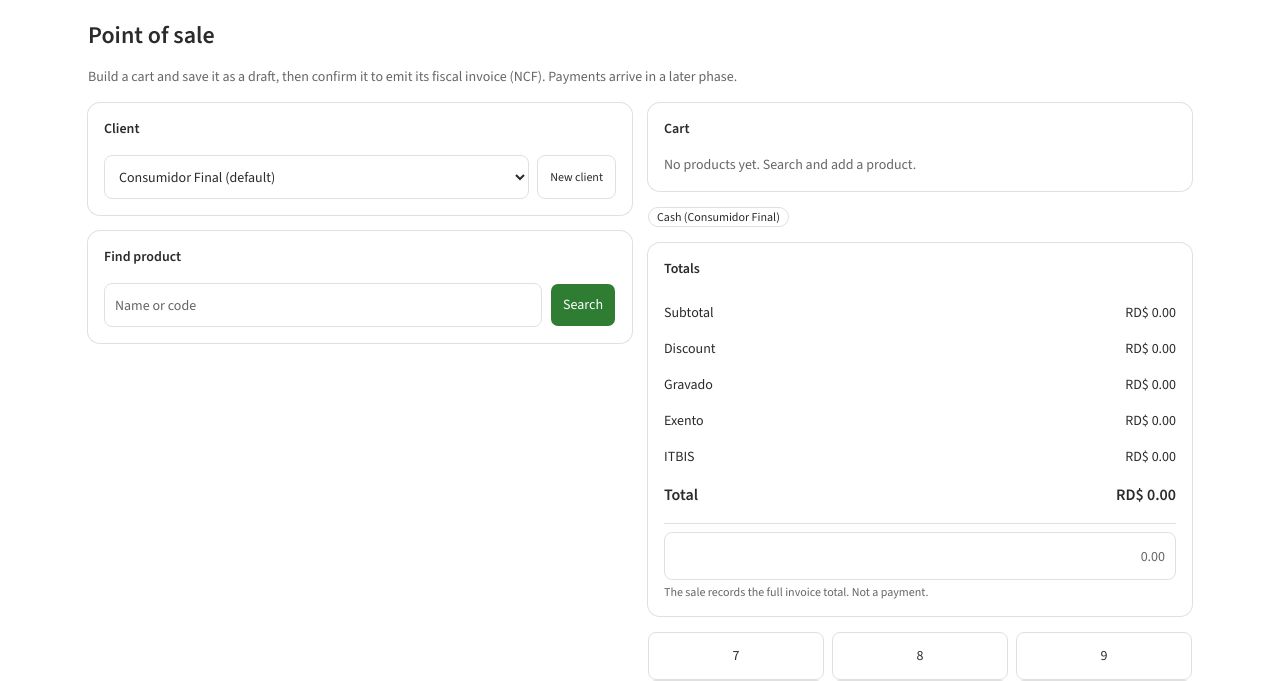
Test case: PosScreen (R-V14) › renders the stock-warning banner from the save payload warnings
The width and height of the screenshot is (1280, 681).
Type "arroz" into the field named "Search products" at (323, 305), box [104, 283, 542, 327]
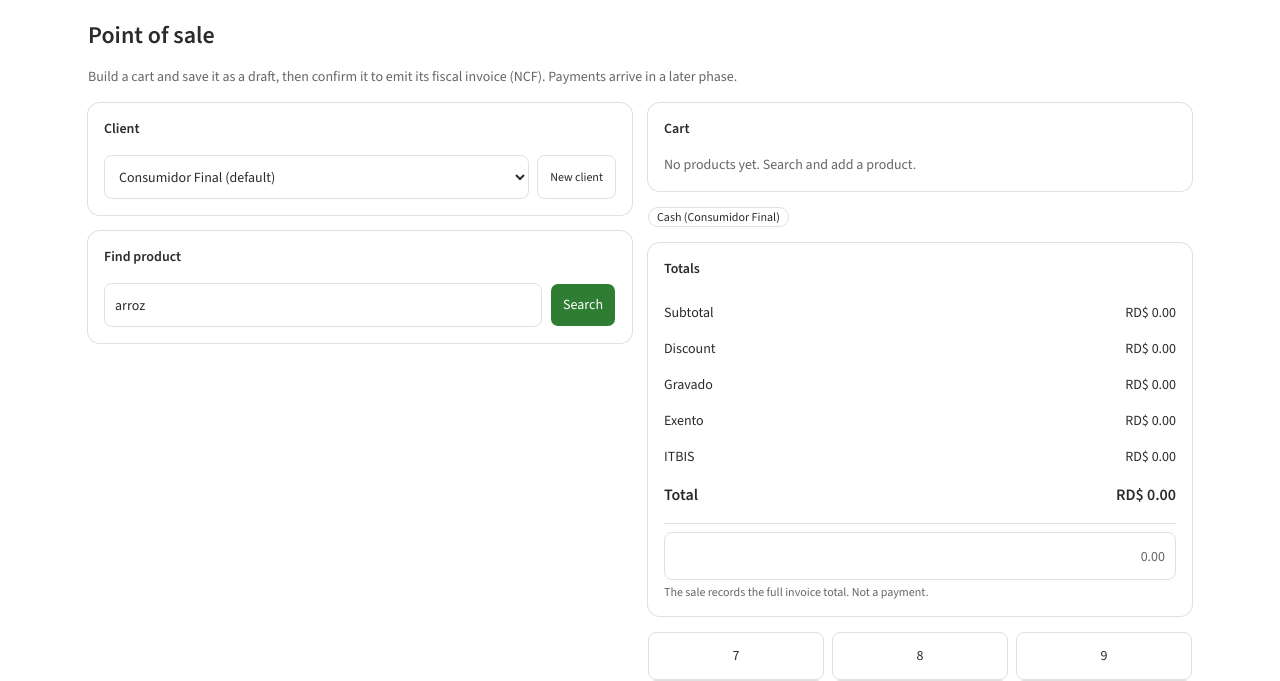
Click the button "Search" at (583, 305), box [550, 283, 616, 327]
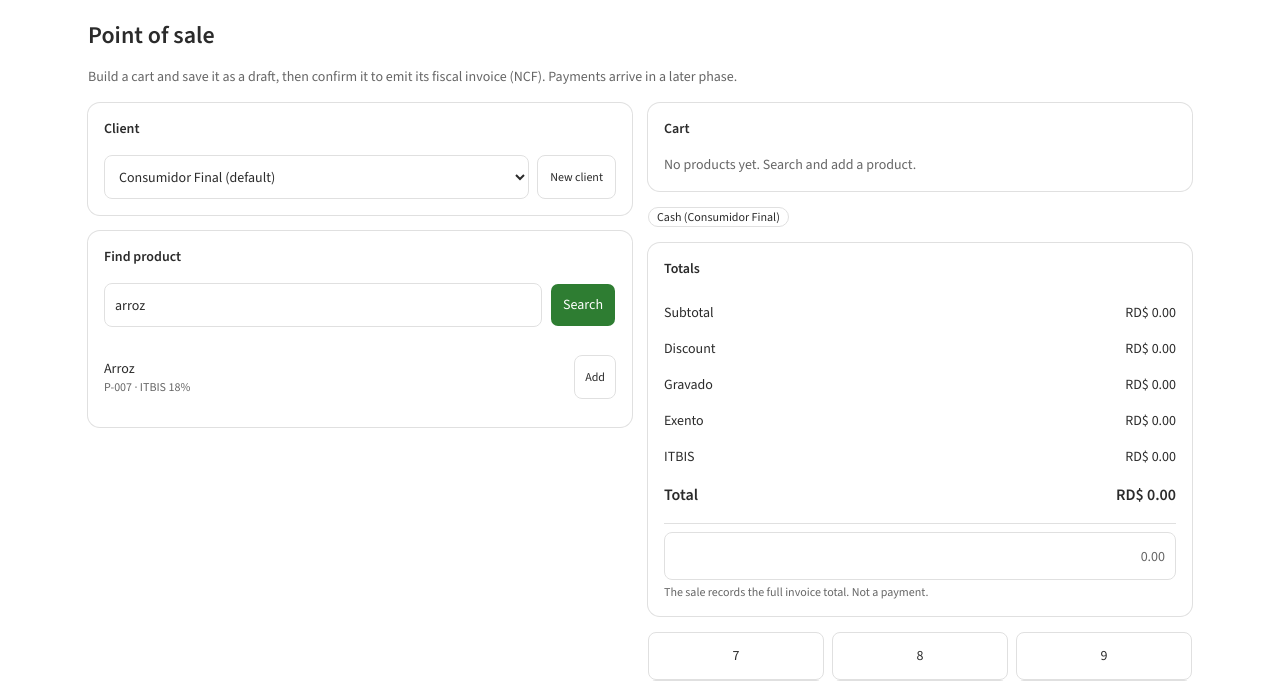
Click the button "Add" at (595, 377), box [574, 355, 616, 399]
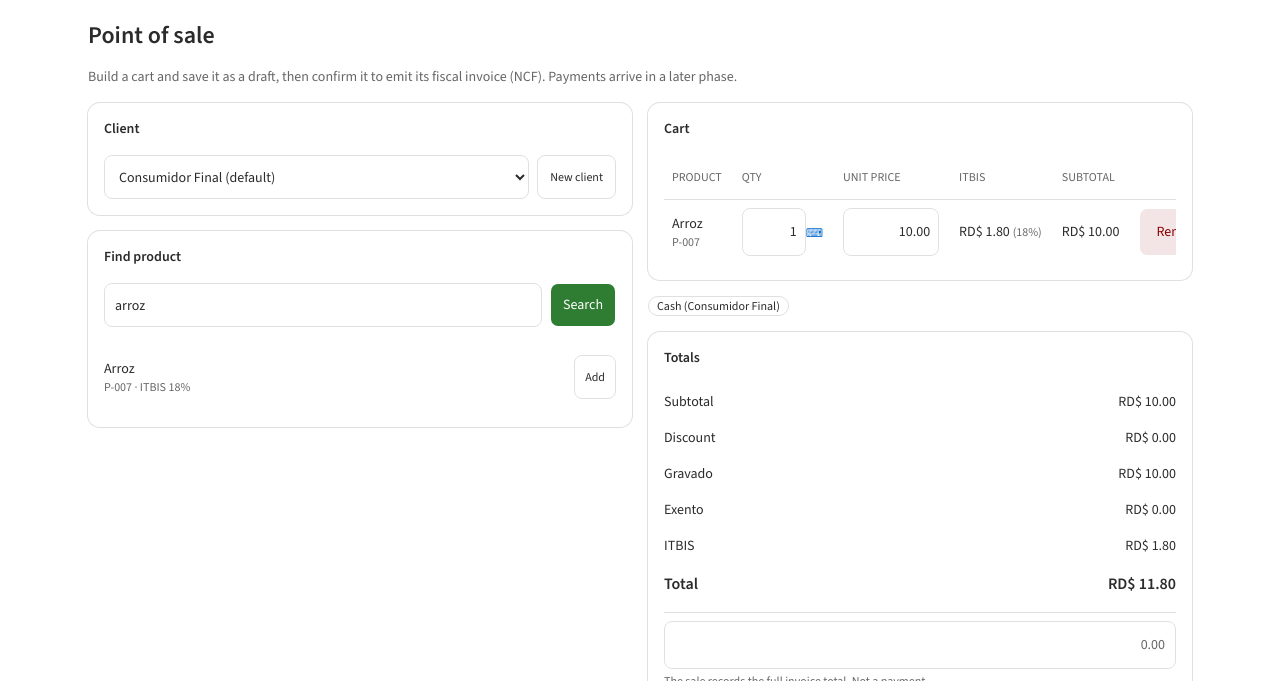
Replace the text in the field named "Quantity for Arroz" with "2" at (774, 232), box [742, 208, 806, 256]
(page scrolled)
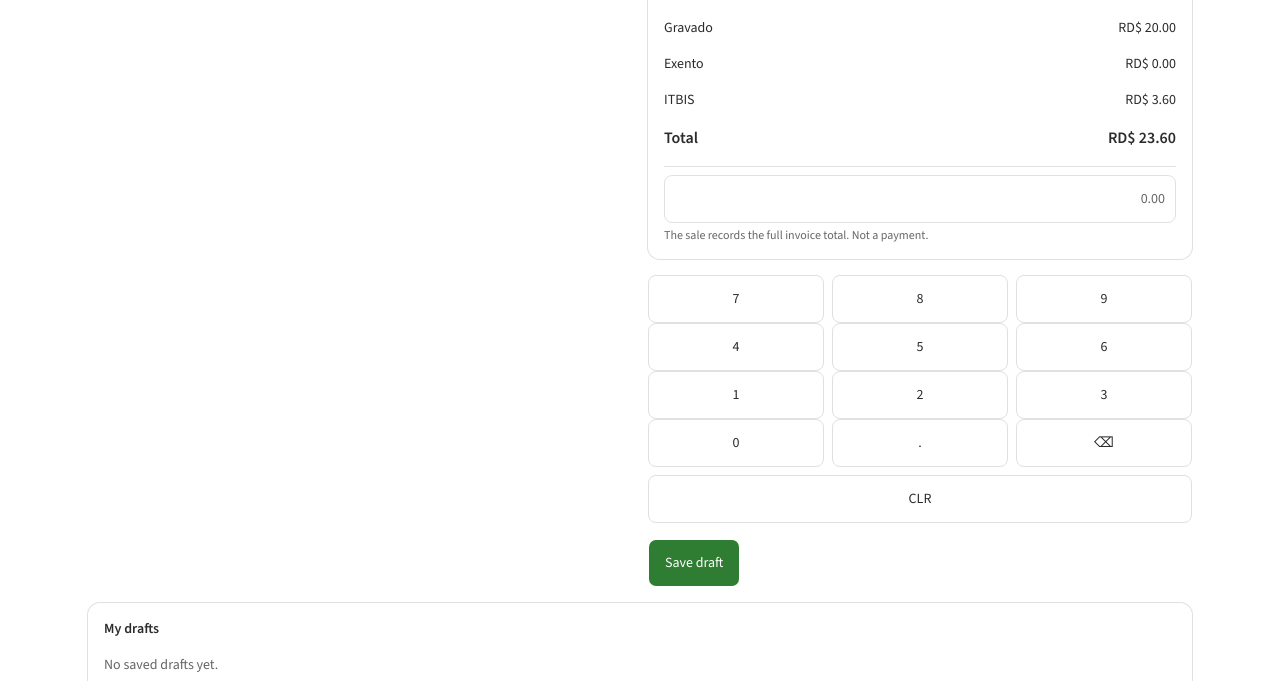
Click the button "Save draft" at (694, 562), box [648, 538, 740, 586]
(page scrolled)
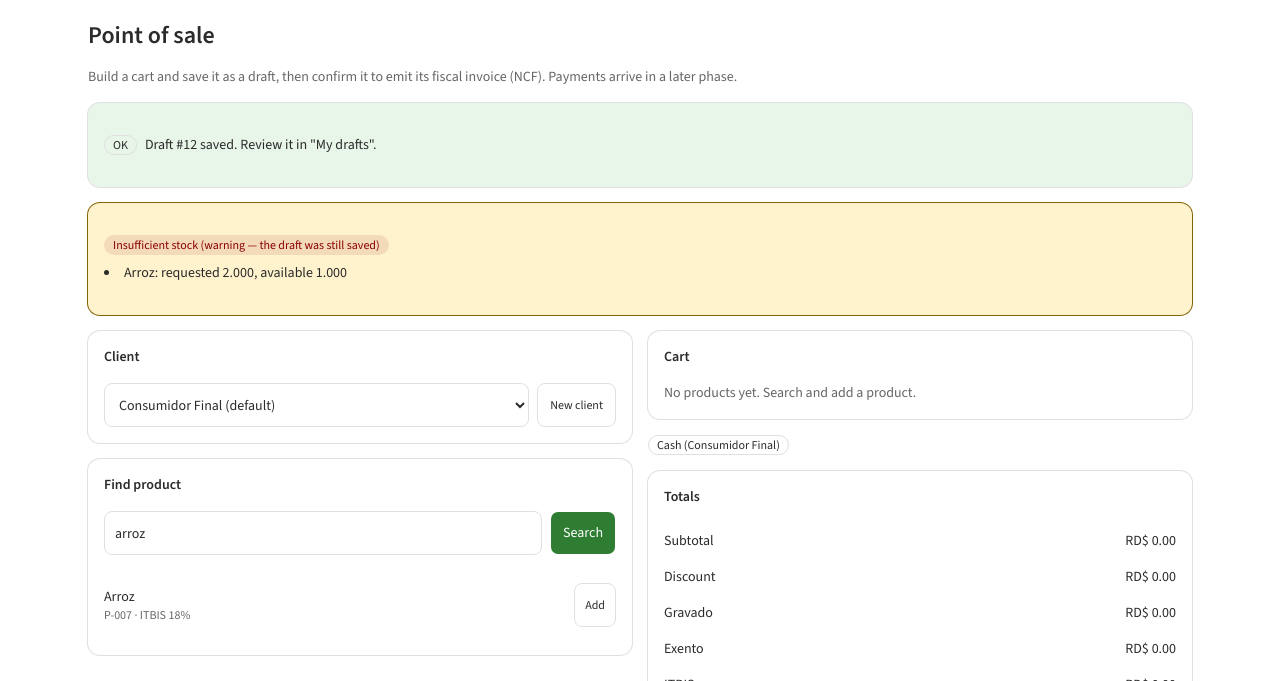
Result: the 2nd message shows "Insufficient stock" at [113, 237, 380, 253]
Result: the 2nd message shows "Arroz" at [124, 263, 155, 282]
Result: the 2nd message shows "requested 2.000" at [88, 203, 1192, 315]
